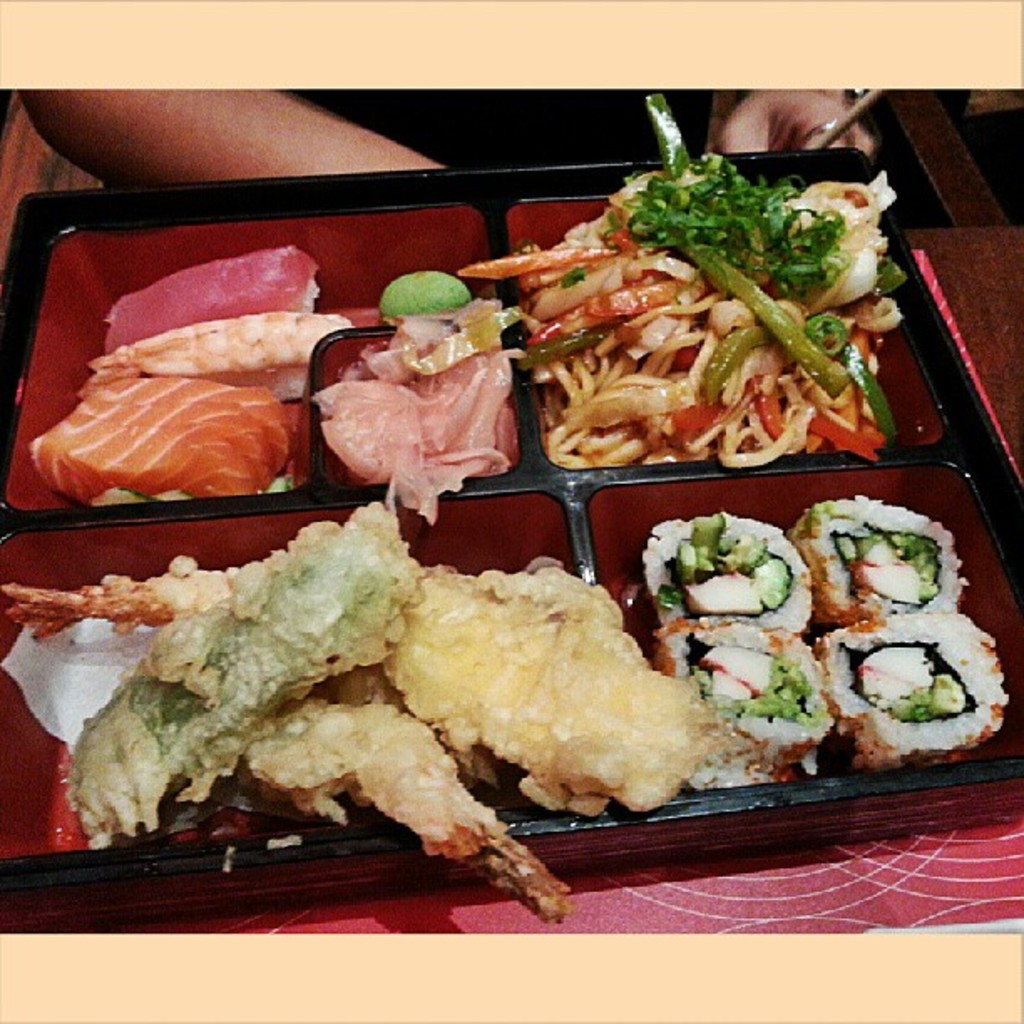sushi: (25, 373, 301, 504), (813, 614, 1012, 776), (25, 378, 293, 495), (653, 617, 838, 776), (810, 617, 1007, 765), (653, 616, 840, 765), (624, 502, 805, 646), (82, 308, 360, 398), (102, 248, 326, 356), (79, 315, 355, 400), (790, 494, 970, 622), (783, 499, 965, 622), (102, 248, 320, 346)
